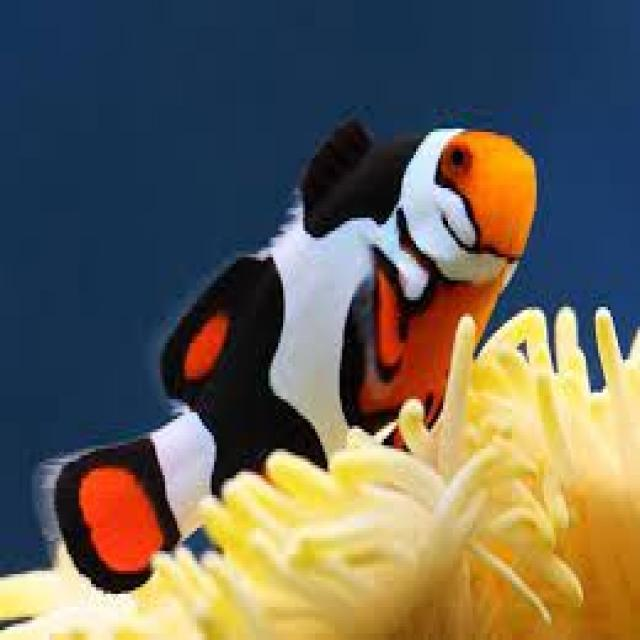ClownFish: (28, 113, 530, 599)
